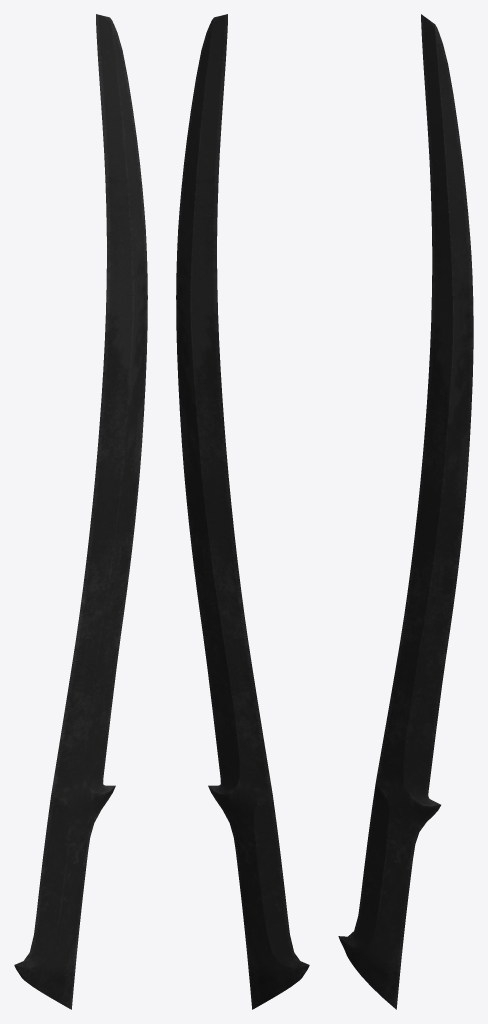
The model's file is wm_rivendell_sword_a01_black_blade.fbx.
The picture shows the model from 3 angles, left to right: view 1: azimuth 30°, elevation 25°; view 2: azimuth 150°, elevation 25°; view 3: azimuth 330°, elevation 25°; orthographic projection.
Visible parts, largest first — view 1: wm_rivendell_sword_a01_black_blade; view 2: wm_rivendell_sword_a01_black_blade; view 3: wm_rivendell_sword_a01_black_blade.
Part boxes in pixels (box(x1,y1,x2,y2)): wm_rivendell_sword_a01_black_blade: box(14, 14, 147, 1009); wm_rivendell_sword_a01_black_blade: box(176, 14, 309, 1009); wm_rivendell_sword_a01_black_blade: box(338, 14, 473, 1009).
Bounding box in the file's own units: 0.1286 × 0.00955 × 0.9101.
Materials: 1 (1 with a texture image).
